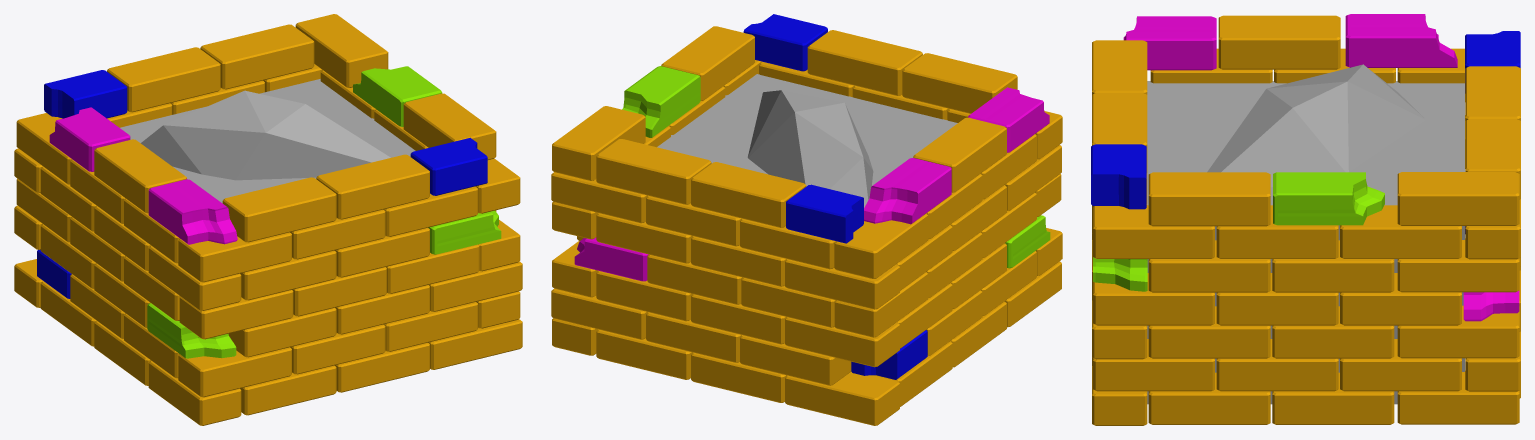
The model's file is MOD_Deposit_Crystal_IN.fbx.
3 renders of one model, left to right at view 1: azimuth 30°, elevation 25°; view 2: azimuth 150°, elevation 25°; view 3: azimuth 270°, elevation 25°, orthographic. The views are drawn at different scales.
Parts seen in each view (by area): view 1: Deposit_Crystal_In; view 2: Deposit_Crystal_In; view 3: Deposit_Crystal_In.
Part boxes in pixels (x1,y1,x2,y2): Deposit_Crystal_In: (14, 14, 522, 425); Deposit_Crystal_In: (551, 14, 1062, 425); Deposit_Crystal_In: (1091, 14, 1520, 425).
Bounding box in the file's own units: 249 × 160 × 249.
